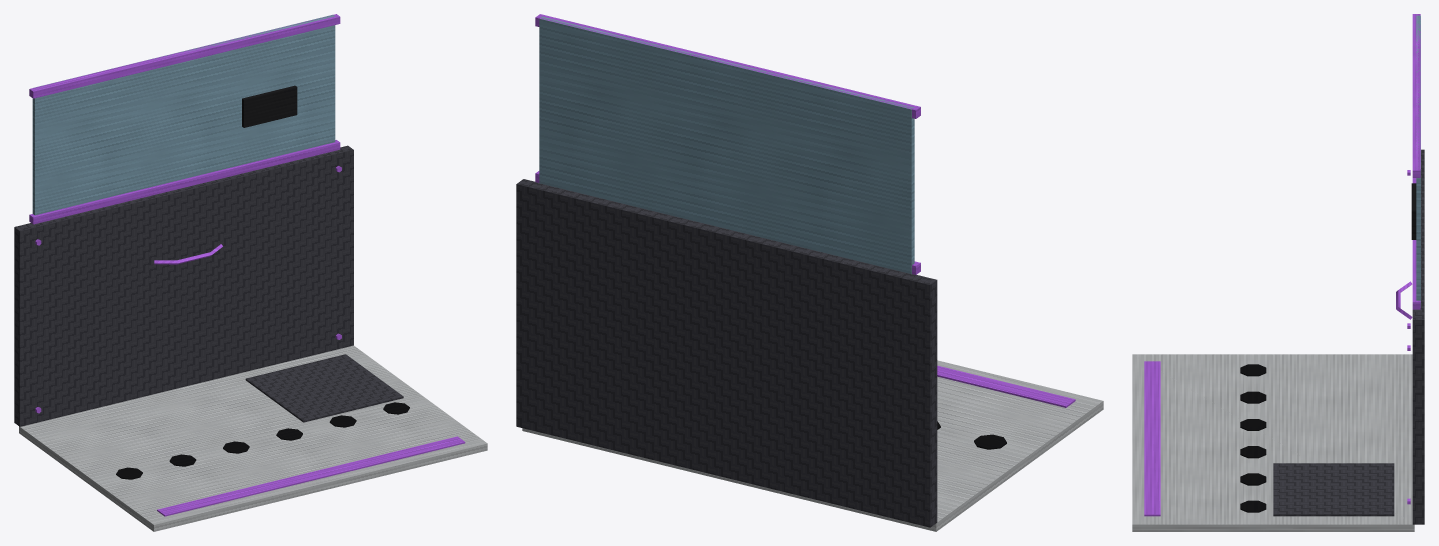
Rendered from reducao_peso_n5.glb.
3 views of the same model, side by side, from view 1: azimuth 30°, elevation 25°; view 2: azimuth 150°, elevation 25°; view 3: azimuth 270°, elevation 25° (orthographic). The views are drawn at different scales.
Visible parts, largest first — view 1: reducao_peso_n5; view 2: reducao_peso_n5; view 3: reducao_peso_n5.
Boxes of the visible parts, left/top/right/bottom form: reducao_peso_n5: left=14, top=14, right=487, bottom=531; reducao_peso_n5: left=516, top=14, right=1103, bottom=531; reducao_peso_n5: left=1132, top=14, right=1424, bottom=531.
Size of the model in its own units: 1 by 0.97 by 0.725.
Materials: 3 (3 with a texture image).
